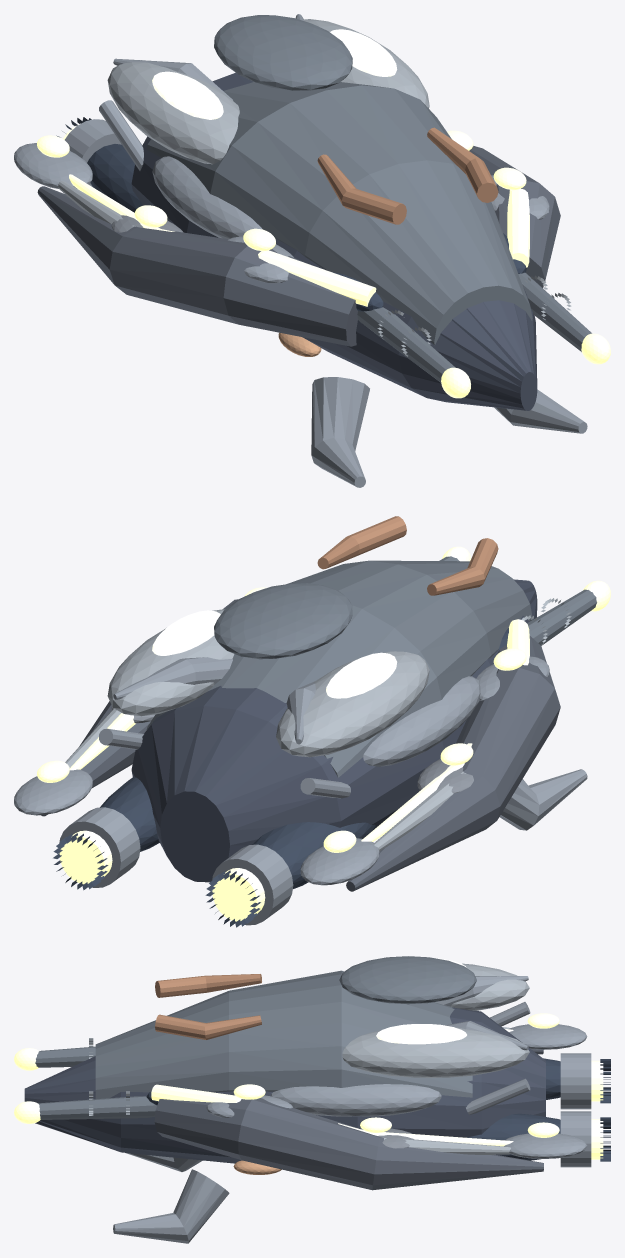
The model's file is npc_aiderStreuner.glb.
The picture shows the model from 3 angles, top to bottom: view 1: azimuth 30°, elevation 25°; view 2: azimuth 150°, elevation 25°; view 3: azimuth 270°, elevation 25°; orthographic projection. The views are drawn at different scales.
Parts seen in each view (by area): view 1: upper_armor_scar, armored_scythe_-1, keel_pressure_hull, support_service_tank, support_repair_cell_-1, support_underside_repair_arm_-1, heavy_shield_pad_-1, armored_scythe_1, energy_etched_rail_-1, long_plasma_cannon_-1, engine_armor_-1, scythe_plate_-1_2 (+16 smaller); view 2: keel_pressure_hull, upper_armor_scar, armored_scythe_-1, support_service_tank, support_repair_cell_-1, support_repair_cell_1, heavy_shield_pad_-1, exhaust_coil_-1, exhaust_coil_1, engine_armor_-1, support_underside_repair_arm_-1, scythe_plate_1_2 (+26 smaller); view 3: upper_armor_scar, armored_scythe_1, keel_pressure_hull, support_repair_cell_1, support_service_tank, heavy_shield_pad_1, support_underside_repair_arm_1, long_plasma_cannon_1, energy_etched_rail_1, exhaust_coil_-1, support_repair_cell_-1, pirate_crest_-1 (+25 smaller).
Part boxes in pixels (left/top/right/bottom): upper_armor_scar: left=146, top=82, right=532, bottom=345; armored_scythe_-1: left=37, top=186, right=357, bottom=346; keel_pressure_hull: left=131, top=72, right=537, bottom=410; support_service_tank: left=214, top=15, right=352, bottom=90; support_repair_cell_-1: left=107, top=60, right=239, bottom=164; support_underside_repair_arm_-1: left=311, top=377, right=369, bottom=487; heavy_shield_pad_-1: left=152, top=156, right=262, bottom=239; armored_scythe_1: left=469, top=146, right=560, bottom=287; energy_etched_rail_-1: left=69, top=174, right=376, bottom=306; long_plasma_cannon_-1: left=357, top=307, right=455, bottom=382; engine_armor_-1: left=87, top=144, right=142, bottom=212; scythe_plate_-1_2: left=14, top=143, right=92, bottom=188; keel_pressure_hull: left=131, top=579, right=537, bottom=882; upper_armor_scar: left=146, top=560, right=532, bottom=777; armored_scythe_-1: left=346, top=636, right=560, bottom=891; support_service_tank: left=214, top=583, right=352, bottom=659; support_repair_cell_-1: left=276, top=651, right=429, bottom=757; support_repair_cell_1: left=107, top=609, right=234, bottom=716; heavy_shield_pad_-1: left=363, top=676, right=480, bottom=766; exhaust_coil_-1: left=212, top=844, right=293, bottom=925; exhaust_coil_1: left=59, top=807, right=140, bottom=887; engine_armor_-1: left=252, top=822, right=375, bottom=888; support_underside_repair_arm_-1: left=499, top=769, right=587, bottom=830; scythe_plate_1_2: left=14, top=769, right=92, bottom=815; upper_armor_scar: left=95, top=970, right=472, bottom=1099; armored_scythe_1: left=154, top=1098, right=543, bottom=1190; keel_pressure_hull: left=24, top=1007, right=545, bottom=1163; support_repair_cell_1: left=342, top=1027, right=529, bottom=1077; support_service_tank: left=339, top=956, right=476, bottom=1004; heavy_shield_pad_1: left=271, top=1084, right=441, bottom=1116; support_underside_repair_arm_1: left=113, top=1169, right=229, bottom=1243; long_plasma_cannon_1: left=38, top=1096, right=156, bottom=1119; energy_etched_rail_1: left=151, top=1084, right=513, bottom=1146; exhaust_coil_-1: left=560, top=1053, right=591, bottom=1109; support_repair_cell_-1: left=451, top=963, right=529, bottom=1010; pirate_crest_-1: left=155, top=974, right=261, bottom=997.
Bounding box in the file's own units: 1.84 × 1.38 × 3.12.
